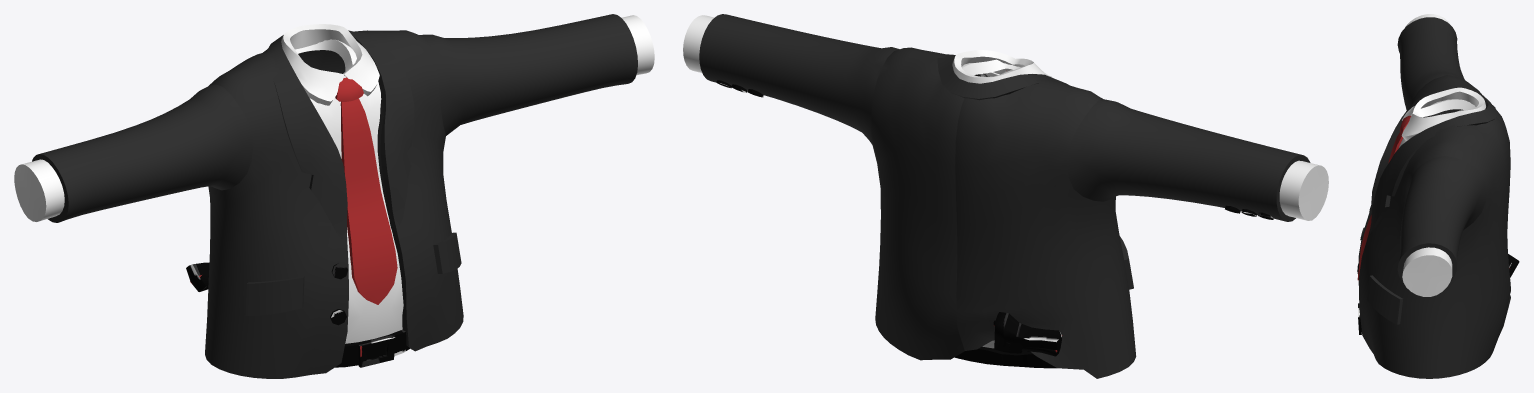
Rendered from 11特工套装.fbx.
3 renders of one model, left to right at view 1: azimuth 30°, elevation 25°; view 2: azimuth 150°, elevation 25°; view 3: azimuth 270°, elevation 25°, orthographic. The views are drawn at different scales.
Visible parts, largest first — view 1: 11特工套装; view 2: 11特工套装; view 3: 11特工套装.
Part boxes in pixels (box(x1,y1,x2,y2)): 11特工套装: box(14, 14, 654, 378); 11特工套装: box(683, 14, 1328, 378); 11特工套装: box(1357, 14, 1519, 378).
Bounding box in the file's own units: 1.54 × 0.7015 × 0.4377.
